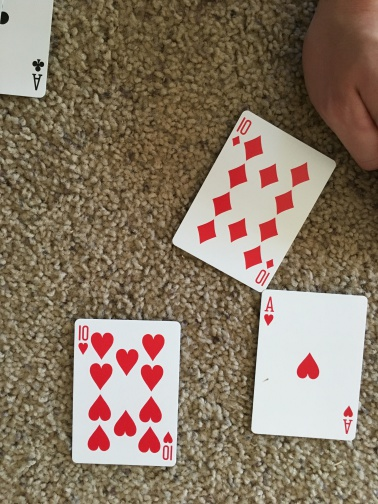ace: (250, 289, 367, 441), (1, 1, 56, 98)
ten: (174, 109, 337, 289), (72, 317, 183, 466)
